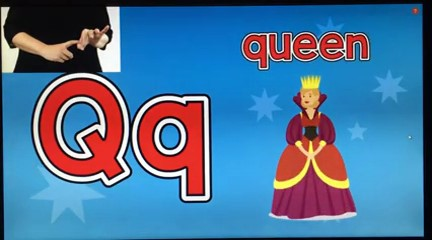Q: (41, 20, 112, 67)
